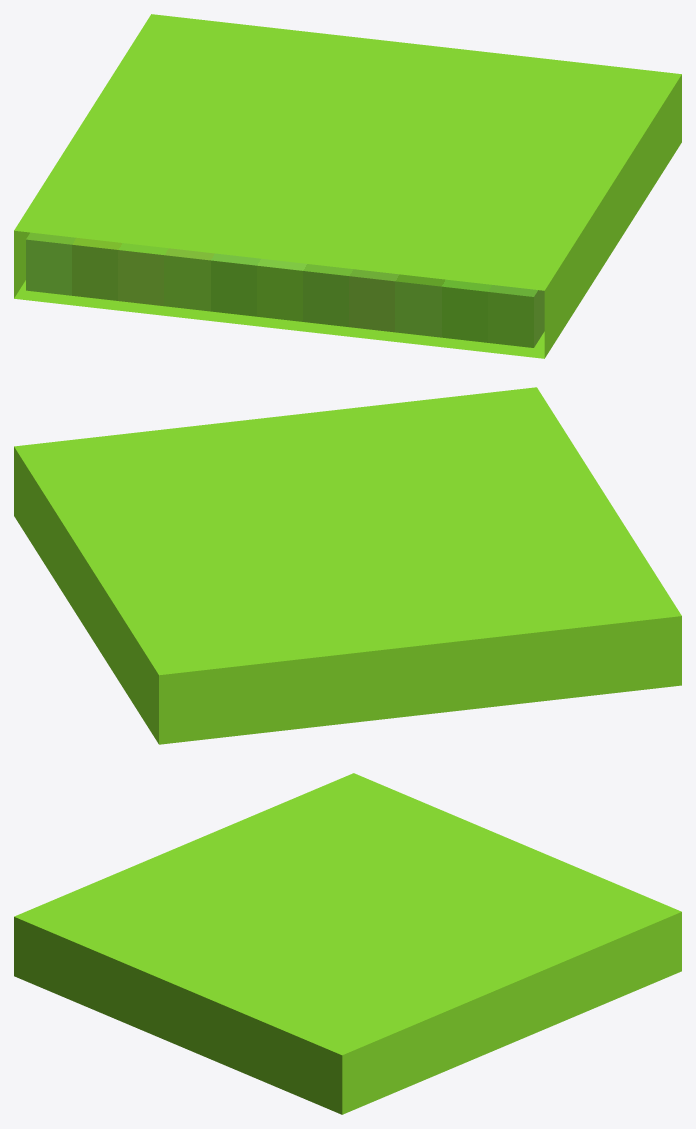
Rendered from VirusBlot.gltf.
3 renders of one model, top to bottom at view 1: azimuth 30°, elevation 25°; view 2: azimuth 150°, elevation 25°; view 3: azimuth 270°, elevation 25°, orthographic. The views are drawn at different scales.
Visible parts, largest first — view 1: Blot (×2); view 2: Blot; view 3: Blot.
Part boxes in pixels (box(x1,y1,x2,y2)): Blot (×2): box(14, 14, 681, 358); Blot: box(14, 387, 681, 744); Blot: box(14, 773, 681, 1114).
Bounding box in the file's own units: 1.02 × 0.1 × 1.02.
2 materials, 2 textured.
